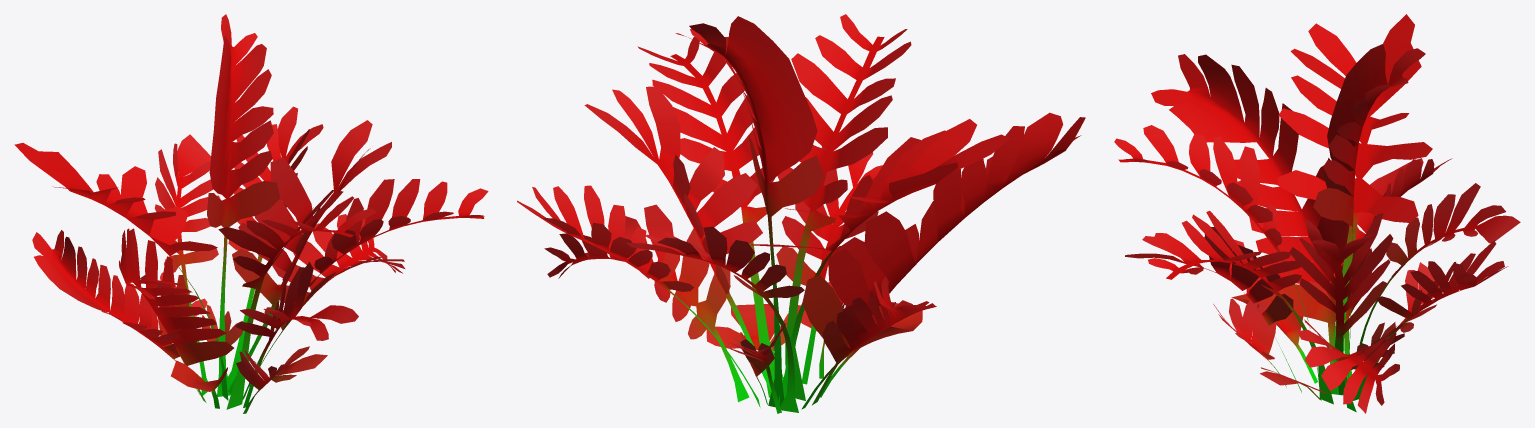
Rendered from Var3_LOD0.fbx.
The picture shows the model from 3 angles, left to right: view 1: azimuth 30°, elevation 25°; view 2: azimuth 150°, elevation 25°; view 3: azimuth 270°, elevation 25°; orthographic projection. The views are drawn at different scales.
Visible parts, largest first — view 1: _0b0e_Var3_LOD0; view 2: _0b0e_Var3_LOD0; view 3: _0b0e_Var3_LOD0.
Part boxes in pixels (bbox=[...]): _0b0e_Var3_LOD0: bbox=[14, 14, 488, 413]; _0b0e_Var3_LOD0: bbox=[517, 14, 1085, 413]; _0b0e_Var3_LOD0: bbox=[1114, 14, 1520, 413].
Size of the model in its own units: 122 by 107 by 108.
